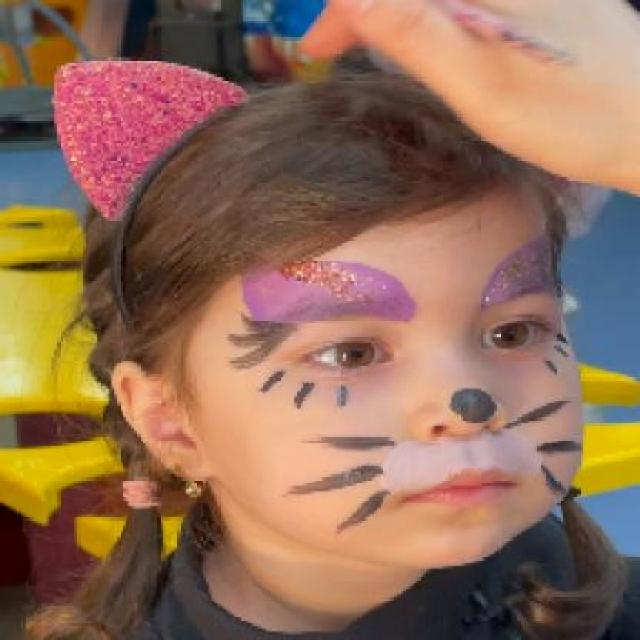child: (25, 57, 638, 637)
